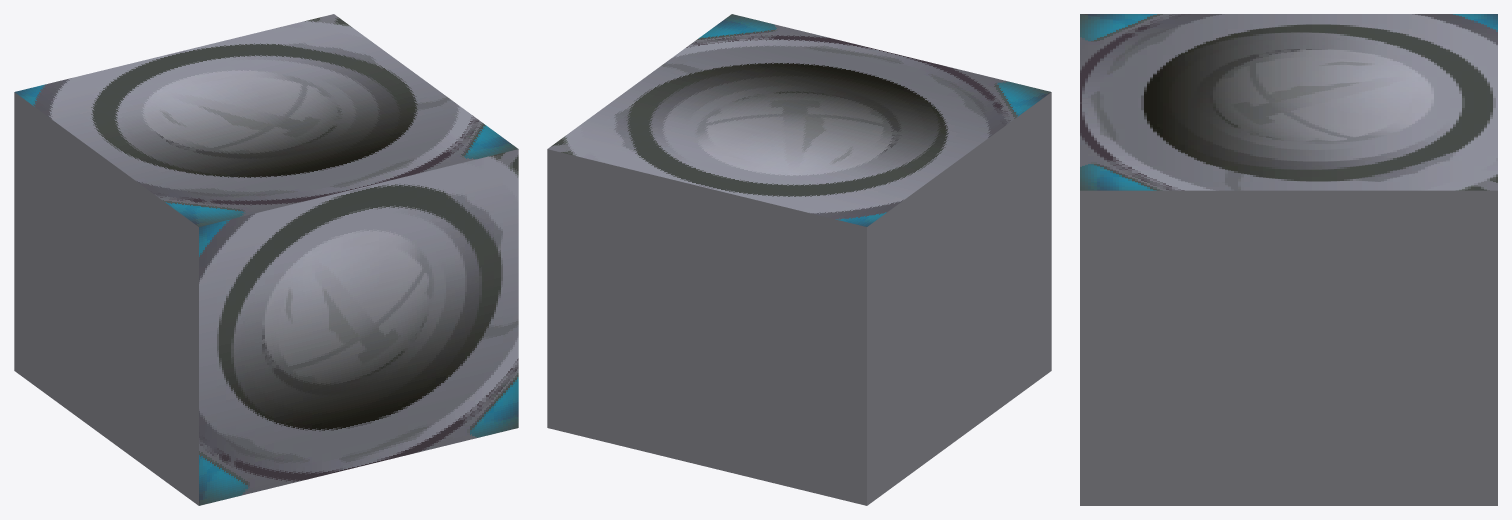
The model's file is Building_AncientGravEngine.glb.
3 views of the same model, side by side, from view 1: azimuth 30°, elevation 25°; view 2: azimuth 150°, elevation 25°; view 3: azimuth 270°, elevation 25° (orthographic). The views are drawn at different scales.
Parts seen in each view (by area): view 1: AncientGravEngine; view 2: AncientGravEngine; view 3: AncientGravEngine.
Part boxes in pixels (x1,y1,x2,y2): AncientGravEngine: (14, 14, 518, 505); AncientGravEngine: (547, 14, 1051, 505); AncientGravEngine: (1080, 14, 1497, 505).
Bounding box in the file's own units: 1.8 × 1.5 × 1.8.
1 material, 1 textured.
